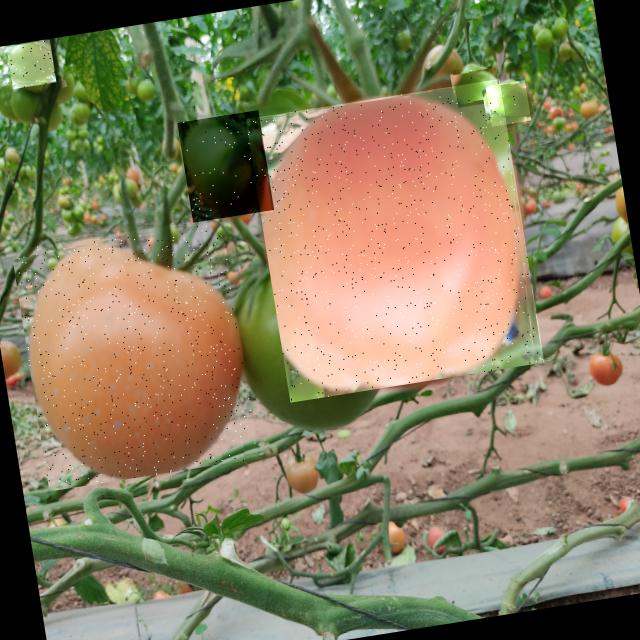Ripe Tomato: (246, 79, 544, 403)
Unripe Tomato: (11, 218, 259, 492), (178, 110, 274, 223), (6, 40, 56, 89), (486, 80, 532, 127), (453, 64, 497, 108)
